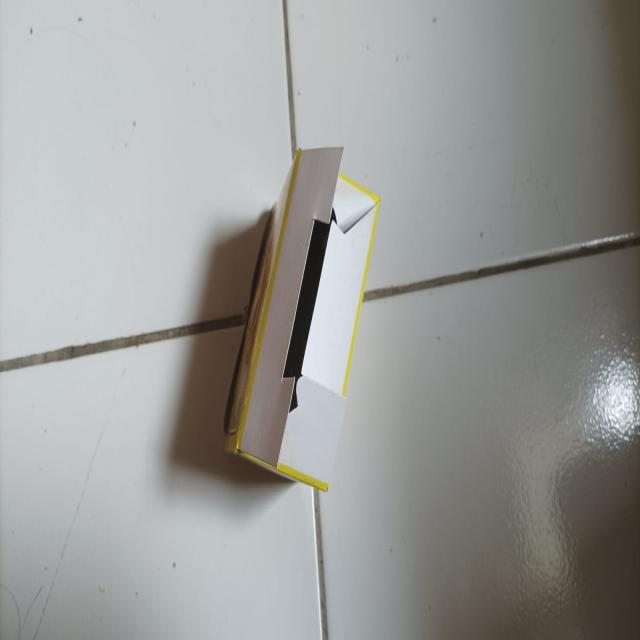Organik: (226, 146, 381, 495)
